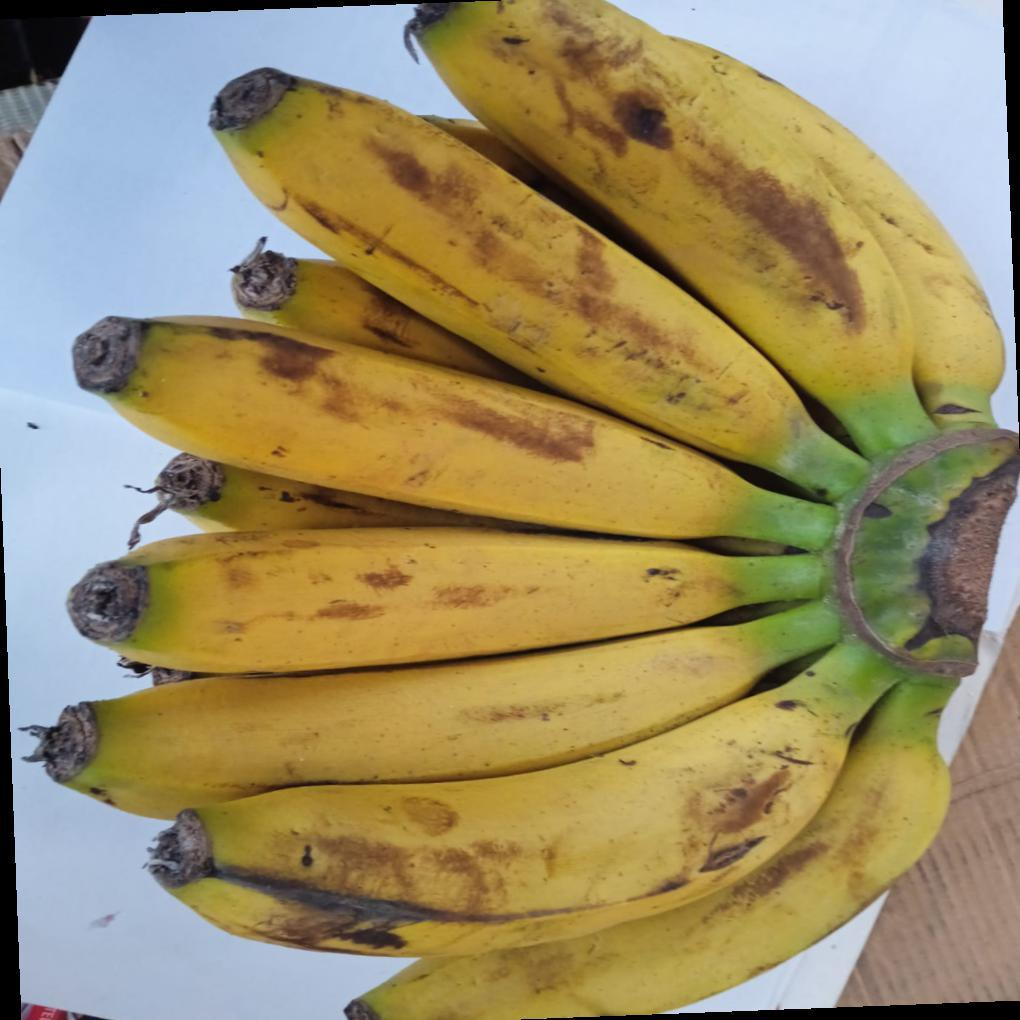Banana Ripe: (38, 232, 864, 774), (208, 19, 1019, 501), (38, 659, 990, 1020)
